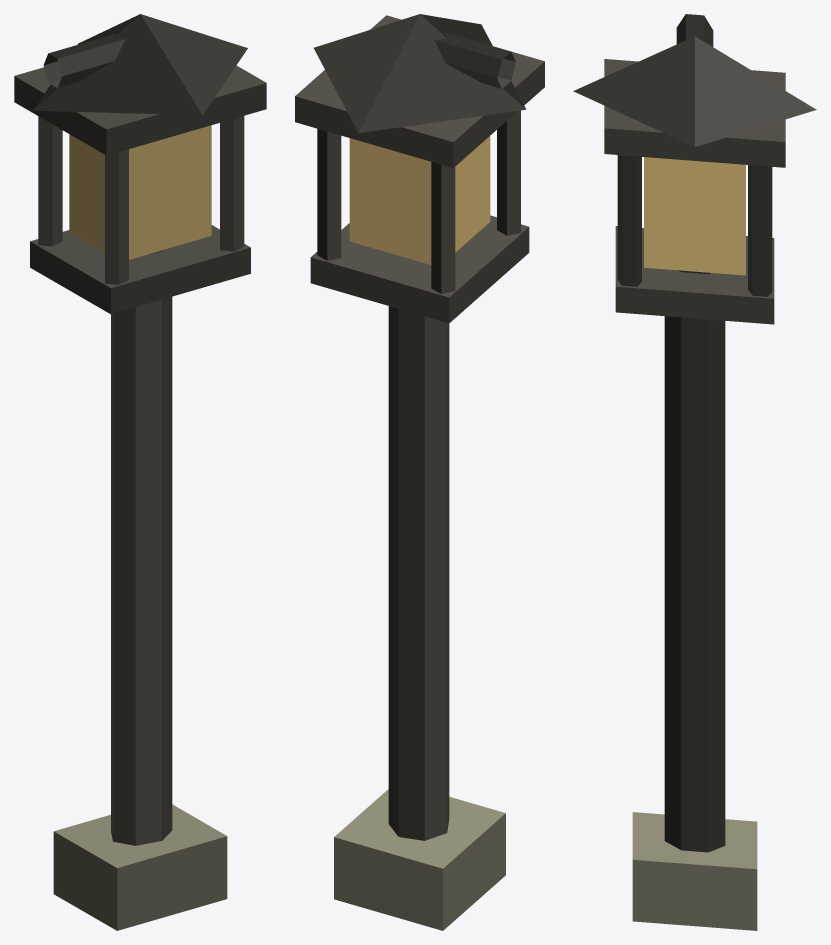
3 renders of one model, left to right at view 1: azimuth 30°, elevation 25°; view 2: azimuth 150°, elevation 25°; view 3: azimuth 270°, elevation 25°, orthographic.
Parts seen in each view (by area): view 1: d14a60cf37a7c96c97fcfa1e04ba2c0b5249c133ce5b9ff3d403121de53f; view 2: d14a60cf37a7c96c97fcfa1e04ba2c0b5249c133ce5b9ff3d403121de53f; view 3: d14a60cf37a7c96c97fcfa1e04ba2c0b5249c133ce5b9ff3d403121de53f.
Boxes of the visible parts, x1,y1,x2,y2 form: d14a60cf37a7c96c97fcfa1e04ba2c0b5249c133ce5b9ff3d403121de53f: (14,14,266,930); d14a60cf37a7c96c97fcfa1e04ba2c0b5249c133ce5b9ff3d403121de53f: (295,14,544,930); d14a60cf37a7c96c97fcfa1e04ba2c0b5249c133ce5b9ff3d403121de53f: (573,14,816,930).
Bounding box in the file's own units: 0.86 × 3.4 × 0.86.
Materials: 2 (1 with a texture image).
